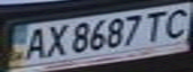6: (87, 17, 109, 52)
7: (121, 12, 148, 46)
8: (69, 19, 93, 55), (106, 16, 127, 50)
A: (18, 25, 51, 61)
C: (157, 6, 193, 39)
T: (139, 8, 172, 43)
X: (39, 21, 69, 59)
